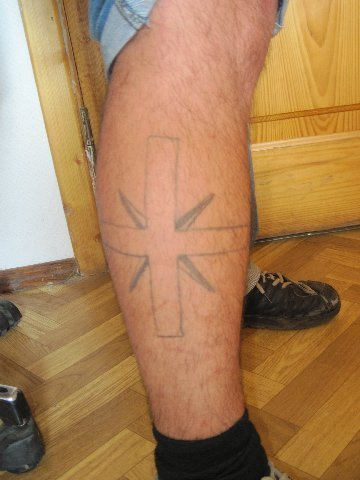tatu9_krest: (101, 135, 249, 355)
